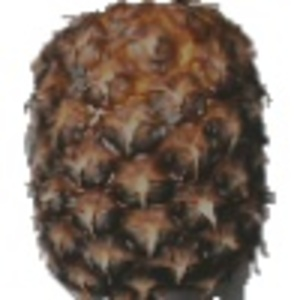abacaxi: (17, 2, 281, 295)
